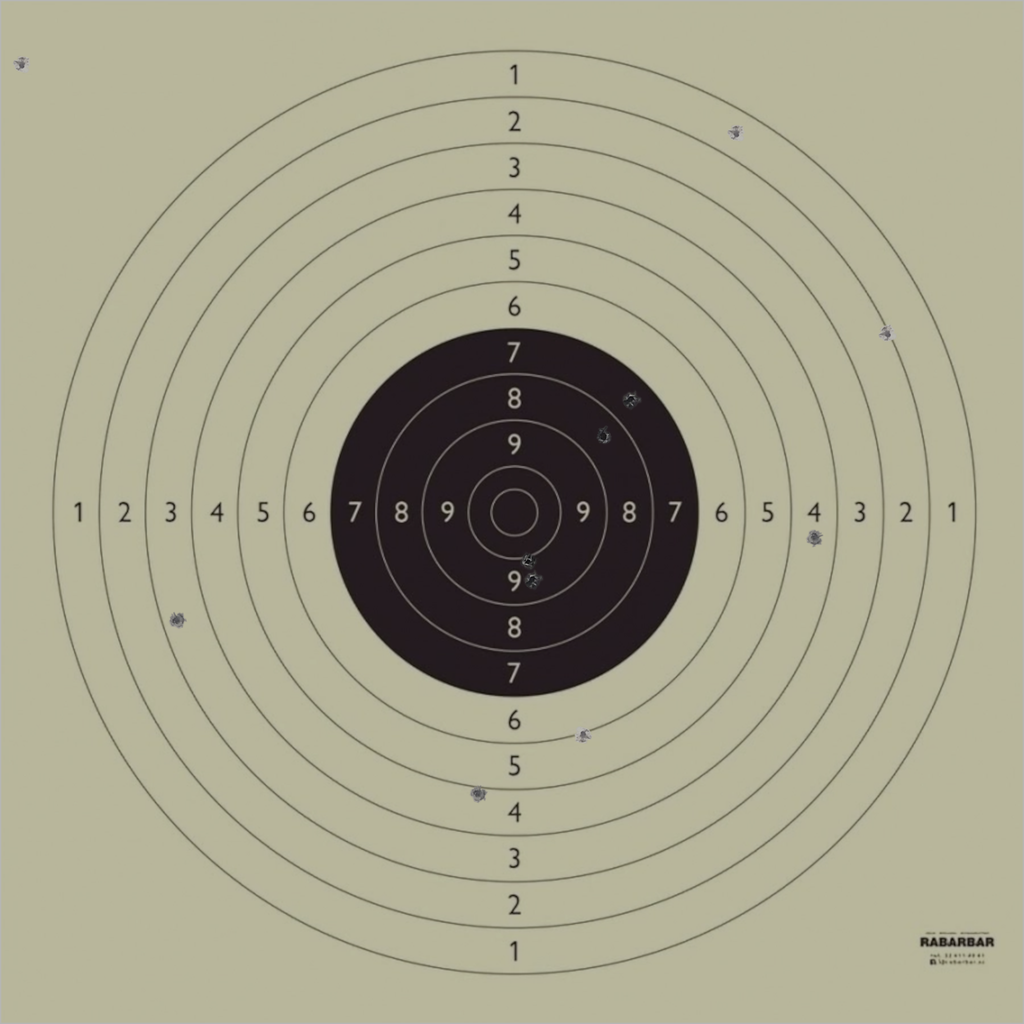0 punktow: (12, 56, 31, 74)
1 punkt: (727, 124, 745, 143)
10 punktow: (519, 553, 537, 571)
2 punkty: (878, 325, 897, 343)
3 punkty: (168, 611, 186, 630)
4 punkty: (805, 528, 824, 546)
5 punktow: (469, 784, 487, 803)
6 punktow: (574, 726, 593, 744)
7 punktow: (622, 390, 640, 408)
8 punktow: (594, 427, 613, 445)
9 punktow: (523, 570, 542, 589)
